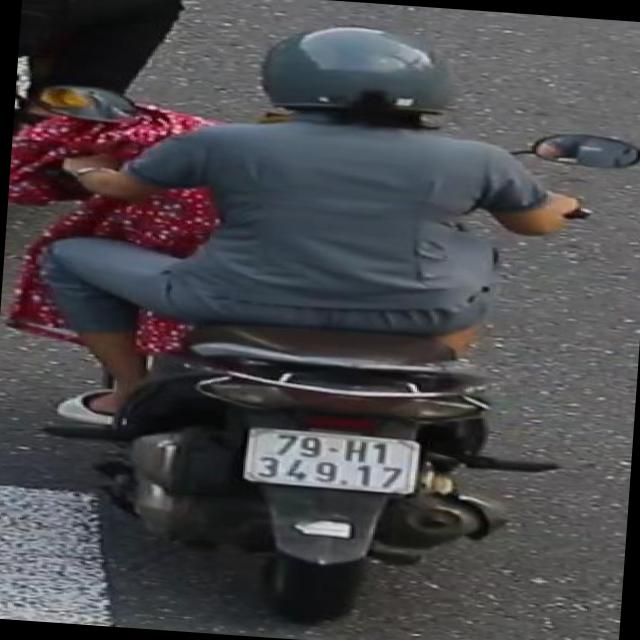LP: (236, 422, 429, 502)
helmet: (247, 12, 467, 146)
